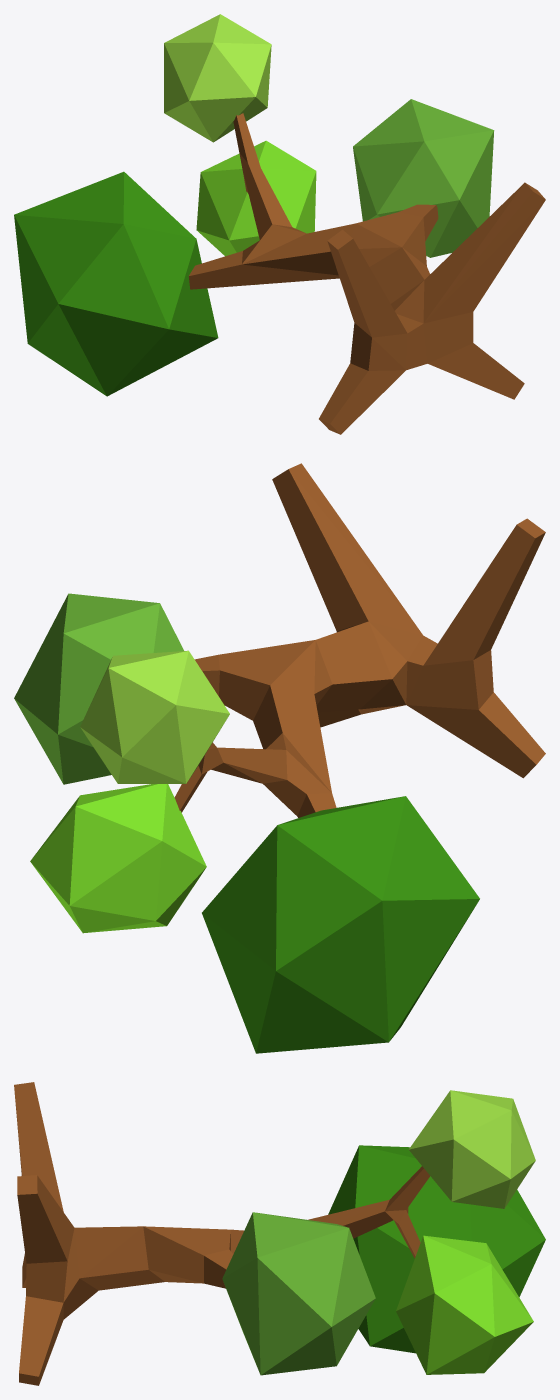
The model's file is Pohon2.fbx.
3 views of the same model, one above another, from view 1: azimuth 30°, elevation 25°; view 2: azimuth 150°, elevation 25°; view 3: azimuth 270°, elevation 25° (orthographic). The views are drawn at different scales.
Parts seen in each view (by area): view 1: Pohon 2; view 2: Pohon 2; view 3: Pohon 2.
Part boxes in pixels (bbox=[...]): Pohon 2: bbox=[14, 14, 545, 434]; Pohon 2: bbox=[14, 463, 545, 1053]; Pohon 2: bbox=[14, 1082, 545, 1385].
Size of the model in its own units: 121 by 87.05 by 135.
